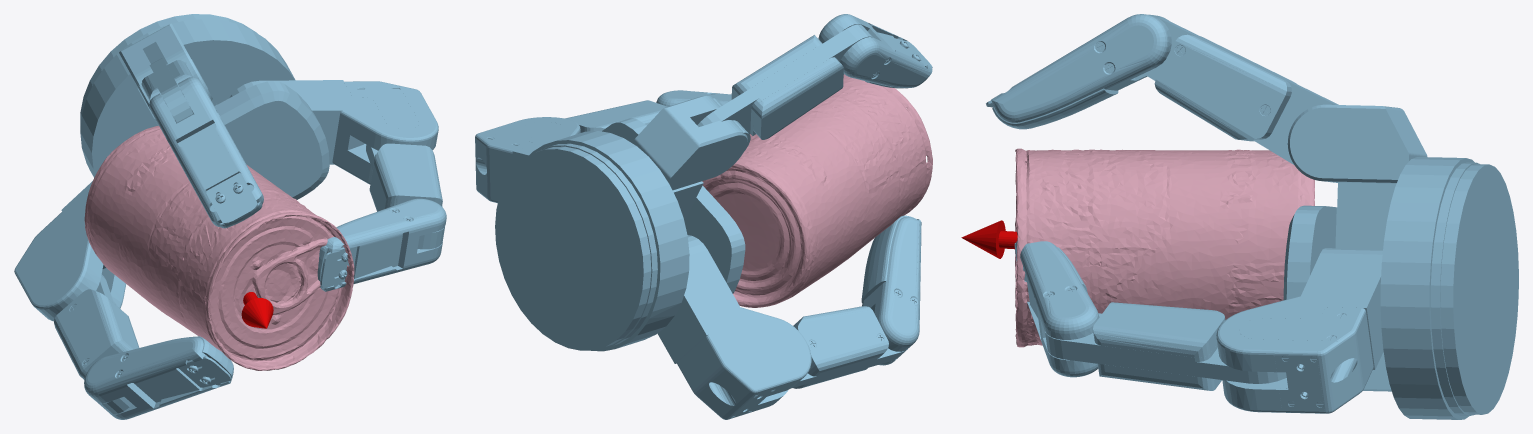
The picture shows the model from 3 angles, left to right: view 1: azimuth 30°, elevation 25°; view 2: azimuth 150°, elevation 25°; view 3: azimuth 270°, elevation 25°; orthographic projection. The views are drawn at different scales.
Parts seen in each view (by area): view 1: world, tomato_soup_can.stl; view 2: world, tomato_soup_can.stl; view 3: world, tomato_soup_can.stl.
Part boxes in pixels (box(x1,y1,x2,y2)): world: box(14, 14, 446, 419); tomato_soup_can.stl: box(84, 125, 354, 370); world: box(475, 14, 932, 419); tomato_soup_can.stl: box(702, 74, 932, 307); world: box(961, 14, 1518, 419); tomato_soup_can.stl: box(1015, 148, 1314, 347).
Bounding box in the file's own units: 0.1807 × 0.1466 × 0.1892.
